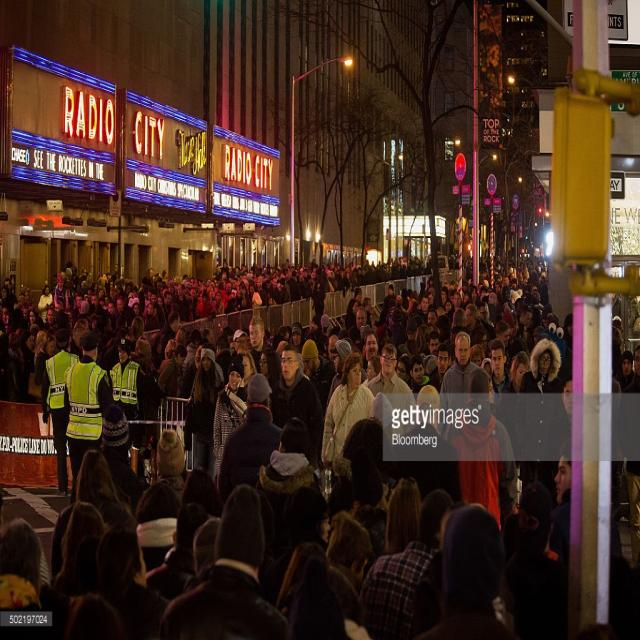body: (0, 418, 640, 639), (0, 247, 639, 391), (445, 366, 520, 533), (216, 373, 285, 522), (217, 370, 289, 512), (62, 330, 117, 506), (253, 416, 323, 551), (514, 332, 564, 512), (390, 383, 462, 504), (40, 324, 83, 500), (320, 350, 378, 466), (270, 342, 320, 467), (108, 335, 147, 479), (212, 351, 249, 491), (367, 341, 418, 442), (191, 341, 225, 492), (436, 330, 480, 442), (124, 338, 152, 478), (322, 338, 353, 432), (155, 427, 189, 498), (158, 343, 188, 422), (301, 337, 327, 418), (488, 336, 513, 405), (370, 392, 396, 440), (248, 314, 268, 375), (504, 349, 530, 394), (560, 373, 572, 437), (361, 330, 379, 372), (612, 393, 640, 418), (361, 354, 382, 387), (32, 330, 48, 366), (33, 329, 48, 366), (242, 351, 258, 384), (486, 372, 496, 404)
